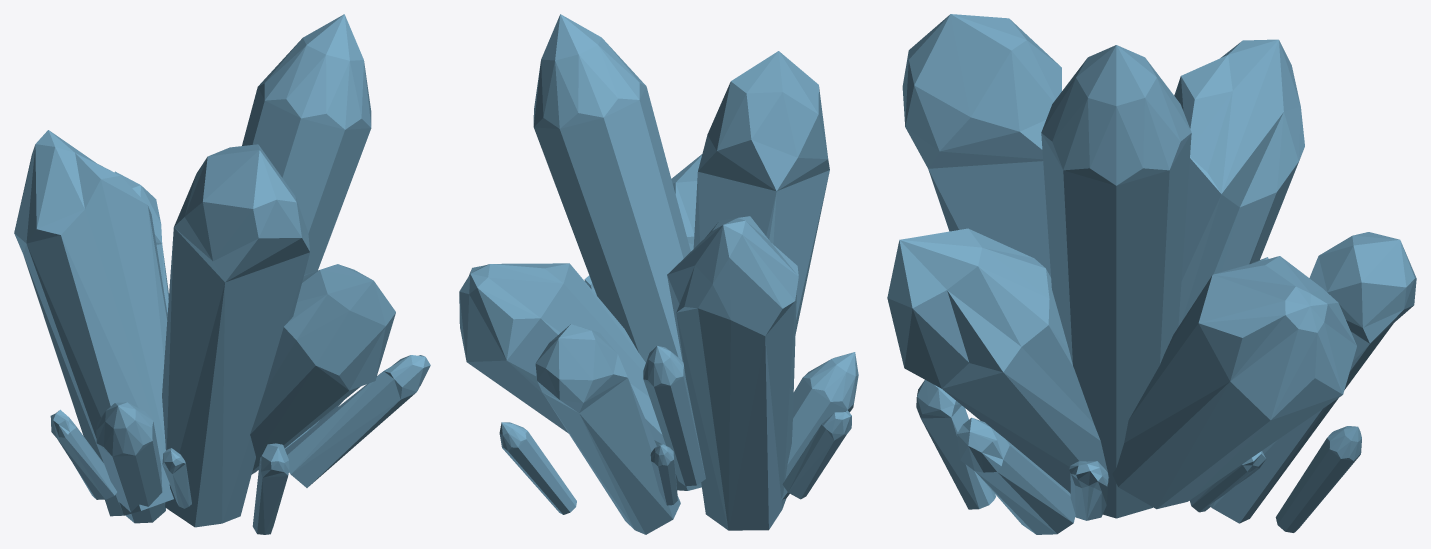
Rendered from crystalLarge-1.fbx.
3 views of the same model, side by side, from view 1: azimuth 30°, elevation 25°; view 2: azimuth 150°, elevation 25°; view 3: azimuth 270°, elevation 25° (orthographic). The views are drawn at different scales.
Visible parts, largest first — view 1: BigCrystal; view 2: BigCrystal; view 3: BigCrystal.
Boxes of the visible parts, box(x1,y1,x2,y2) form: BigCrystal: box(14, 14, 430, 534); BigCrystal: box(459, 14, 858, 534); BigCrystal: box(887, 14, 1416, 534).
Size of the model in its own units: 3026 by 4142 by 3520.
